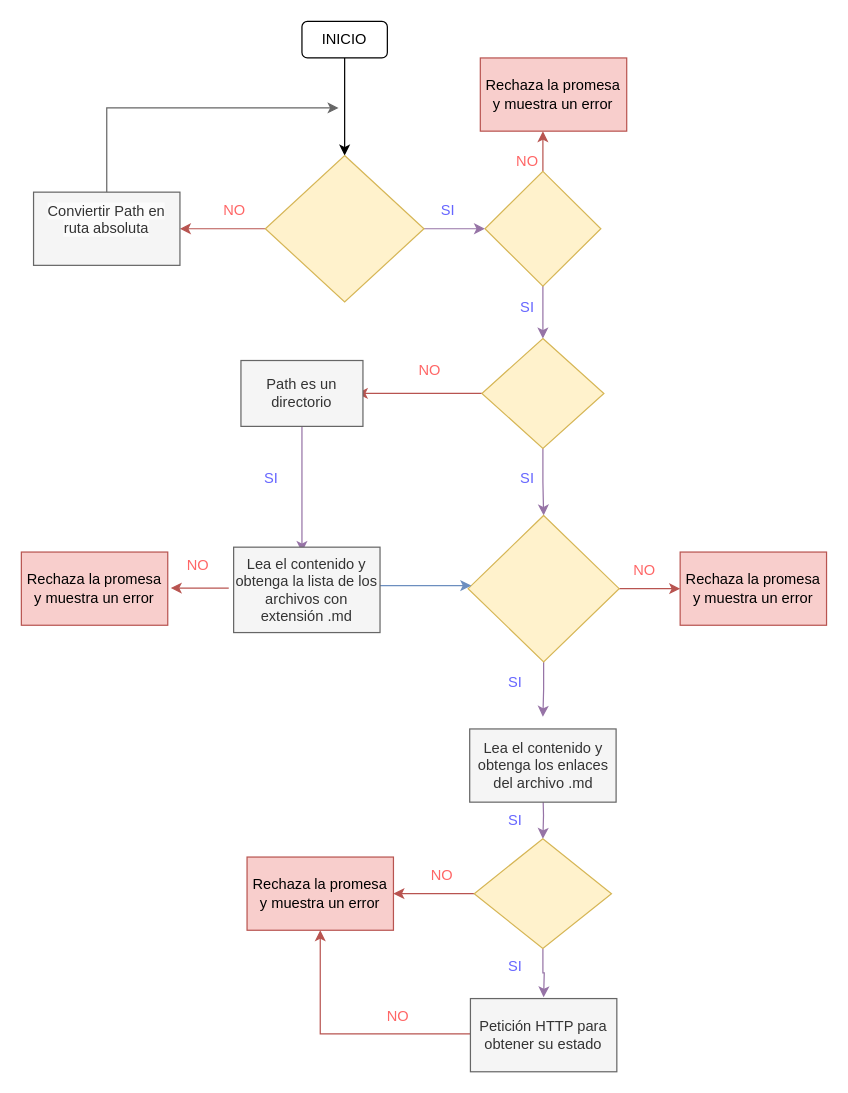
The diagram is 848 pixels wide and 1093 high, and some of its shapes have lost their labels. The centre of each missing label's shape, as x and y in pixels:
"Existe la ruta?" goes at (542,228).
"Hay links para validar?" goes at (542,893).
"Path es un archivo?" goes at (542,392).
"Path es una ruta absoluta?" goes at (344,228).
"Se encontrarón archivos .md?" goes at (543,588).
